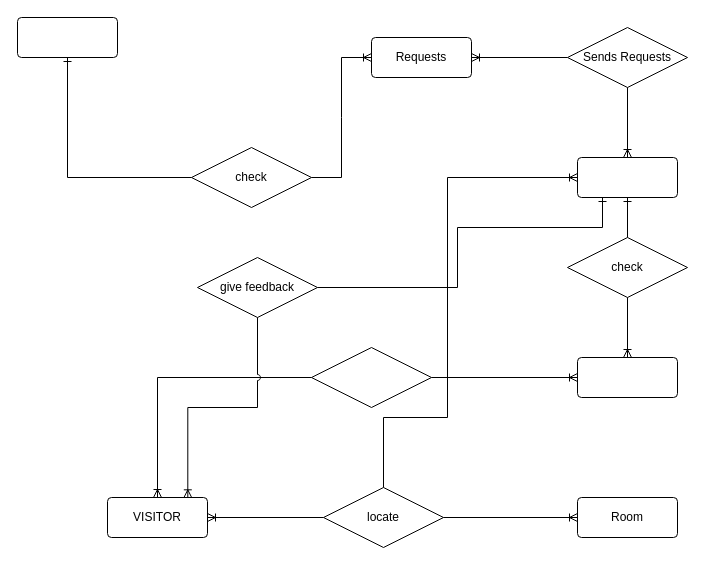
Some shapes in this 705 by 565 pixel diagram are drawn without their labels. The shapes that lost their labels are listed below. From the top down, each one's box as (x1, y1, x2, y2) in pixels, then its label:
(16, 16, 118, 58): Developer
(576, 156, 678, 198): Admin
(310, 346, 432, 408): give
(576, 356, 678, 398): Feedback
